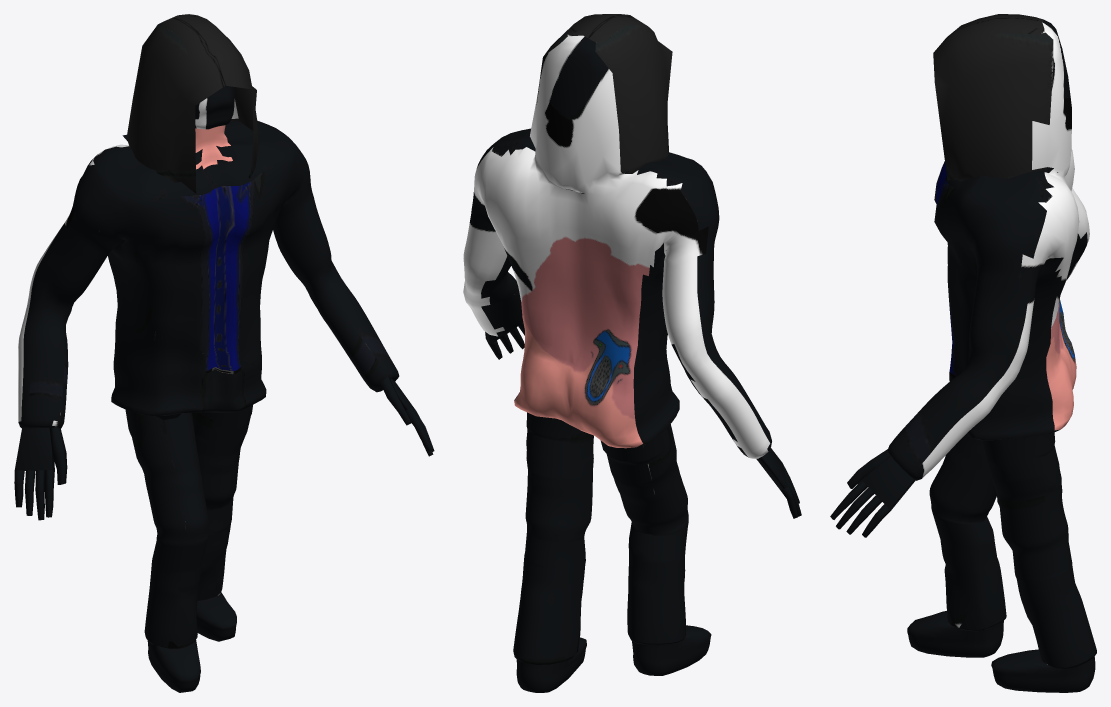
File: keyFrame05.obj
The picture shows the model from 3 angles, left to right: view 1: azimuth 30°, elevation 25°; view 2: azimuth 150°, elevation 25°; view 3: azimuth 270°, elevation 25°; orthographic projection. The views are drawn at different scales.
Parts seen in each view (by area): view 1: pasted__polySurface71 group4; view 2: pasted__polySurface71 group4; view 3: pasted__polySurface71 group4.
Boxes of the visible parts, x1,y1,x2,y2 form: pasted__polySurface71 group4: (14,14,434,692); pasted__polySurface71 group4: (463,14,801,692); pasted__polySurface71 group4: (830,14,1096,692).
Size of the model in its own units: 7.55 by 12.84 by 4.74.
1 material, 1 textured.
